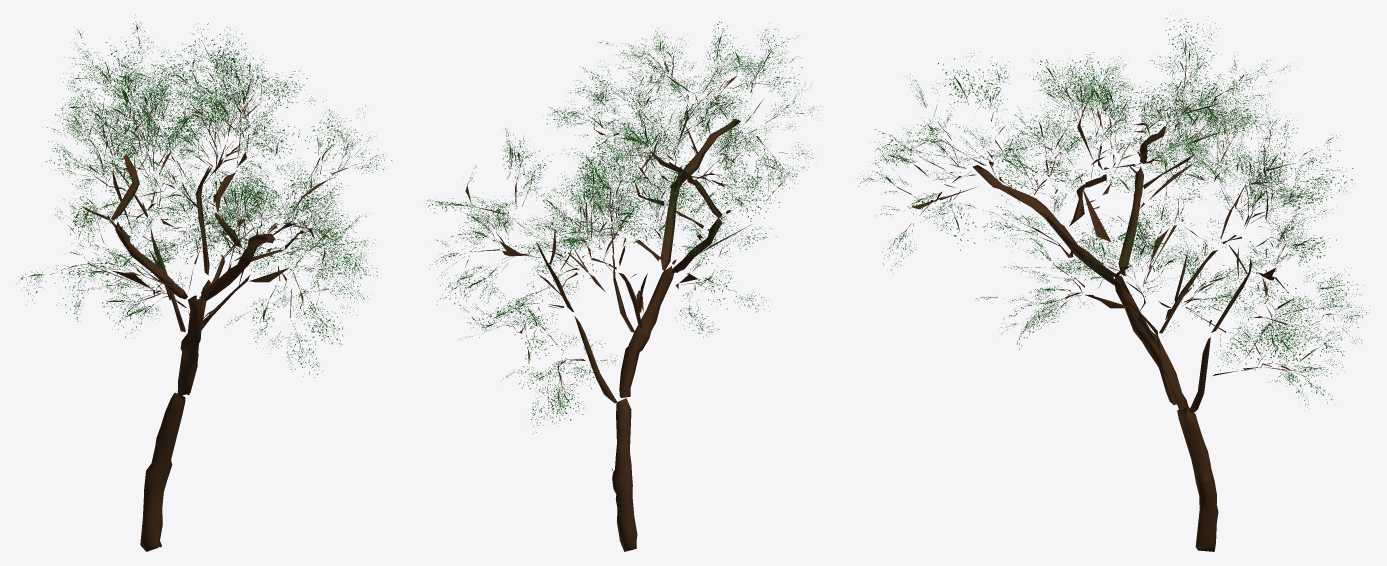
The model's file is street_tree_realistic.obj.
The picture shows the model from 3 angles, left to right: view 1: azimuth 30°, elevation 25°; view 2: azimuth 150°, elevation 25°; view 3: azimuth 270°, elevation 25°; orthographic projection. The views are drawn at different scales.
Visible parts, largest first — view 1: part_2__tree_small_02_leaves, part_3__tree_small_02_trunk, part_1__tree_small_02_branches; view 2: part_2__tree_small_02_leaves, part_3__tree_small_02_trunk, part_1__tree_small_02_branches; view 3: part_2__tree_small_02_leaves, part_3__tree_small_02_trunk, part_1__tree_small_02_branches.
Part boxes in pixels (<box>): part_2__tree_small_02_leaves: <box>16,14,392,377</box>; part_3__tree_small_02_trunk: <box>82,154,294,551</box>; part_1__tree_small_02_branches: <box>50,36,360,359</box>; part_2__tree_small_02_leaves: <box>427,21,822,433</box>; part_3__tree_small_02_trunk: <box>536,119,740,551</box>; part_1__tree_small_02_branches: <box>453,41,803,399</box>; part_2__tree_small_02_leaves: <box>857,15,1369,407</box>; part_3__tree_small_02_trunk: <box>972,123,1251,551</box>; part_1__tree_small_02_branches: <box>872,57,1352,380</box>.
Size of the model in its own units: 6.4 by 10 by 9.43.
